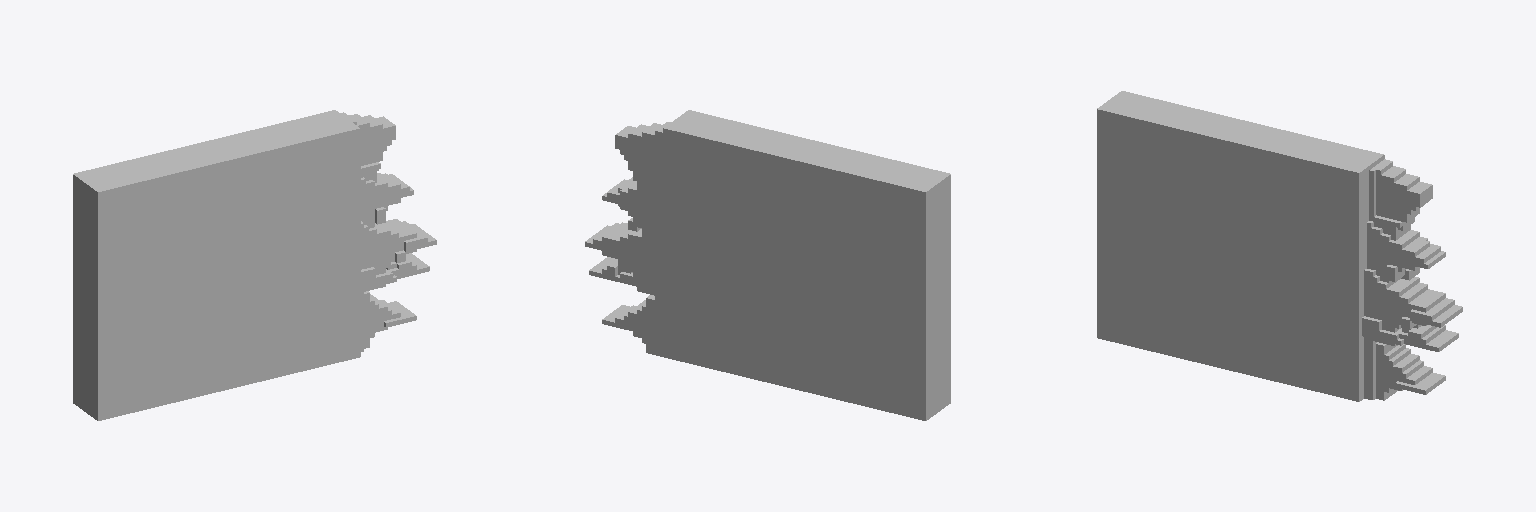
Rendered from wingLeft.obj.
3 views of the same model, side by side, from view 1: azimuth 30°, elevation 25°; view 2: azimuth 150°, elevation 25°; view 3: azimuth 330°, elevation 25° (orthographic).
Parts seen in each view (by area): view 1: object 1; view 2: object 1; view 3: object 1.
Part boxes in pixels (x1,y1,x2,y2): object 1: (73,110,436,420); object 1: (585,110,950,420); object 1: (1097,91,1462,401).
Size of the model in its own units: 7.8 by 5 by 1.